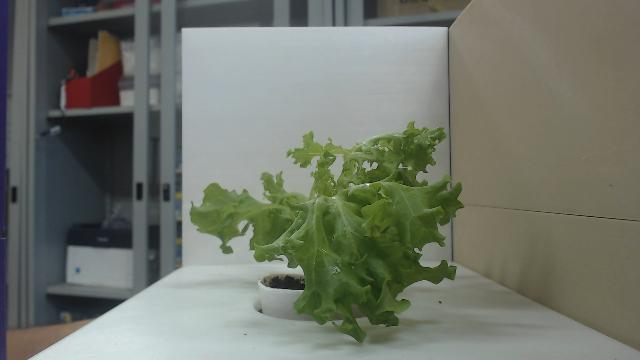Harvest Stage: (190, 120, 466, 344)
